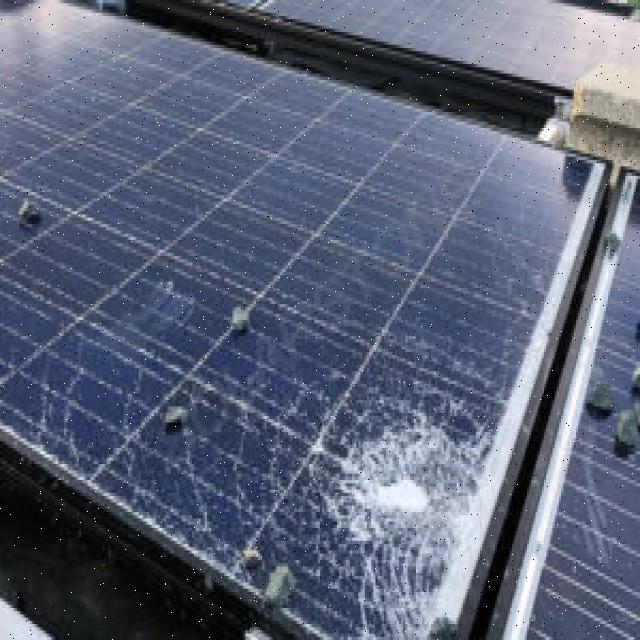physical damage: (258, 336, 509, 638)
